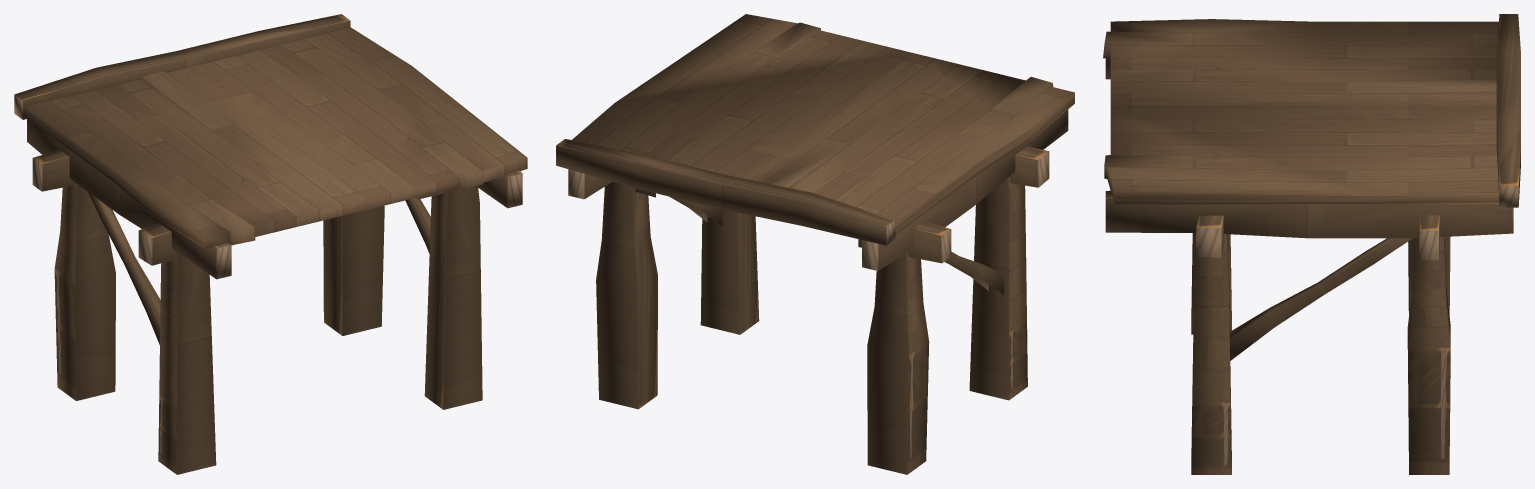
File: hbxz_road009_01.FBX
3 renders of one model, left to right at view 1: azimuth 30°, elevation 25°; view 2: azimuth 150°, elevation 25°; view 3: azimuth 270°, elevation 25°, orthographic. The views are drawn at different scales.
Parts seen in each view (by area): view 1: hbxz_road009_01; view 2: hbxz_road009_01; view 3: hbxz_road009_01.
Part boxes in pixels (x1,y1,x2,y2): hbxz_road009_01: (14,14,527,474); hbxz_road009_01: (556,14,1074,474); hbxz_road009_01: (1103,14,1520,474).
Bounding box in the file's own units: 450 × 328 × 414.
